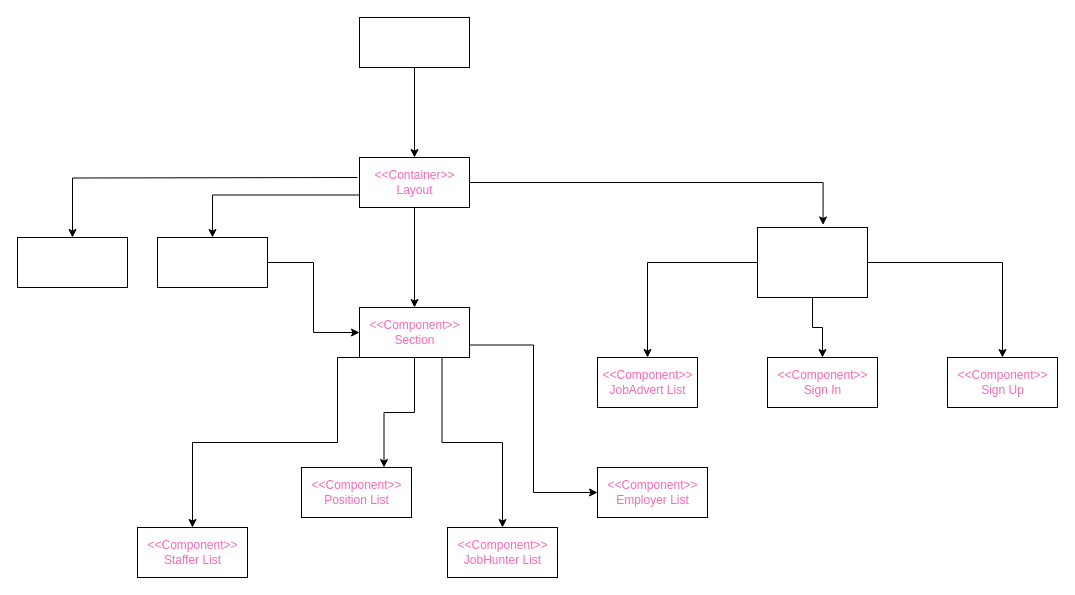
This 1075x595 diagram has some shape labels left out. The shapes that lost their labels are listed below. From the top down, each one's centre as x and y in pixels, then its label:
At pixel 414 42: "<<Component>> App".
At pixel 72 262: "<<Component>> Sidebar".
At pixel 212 262: "<<Component>> Dashboard".
At pixel 812 262: "<<Component>> Navi".
